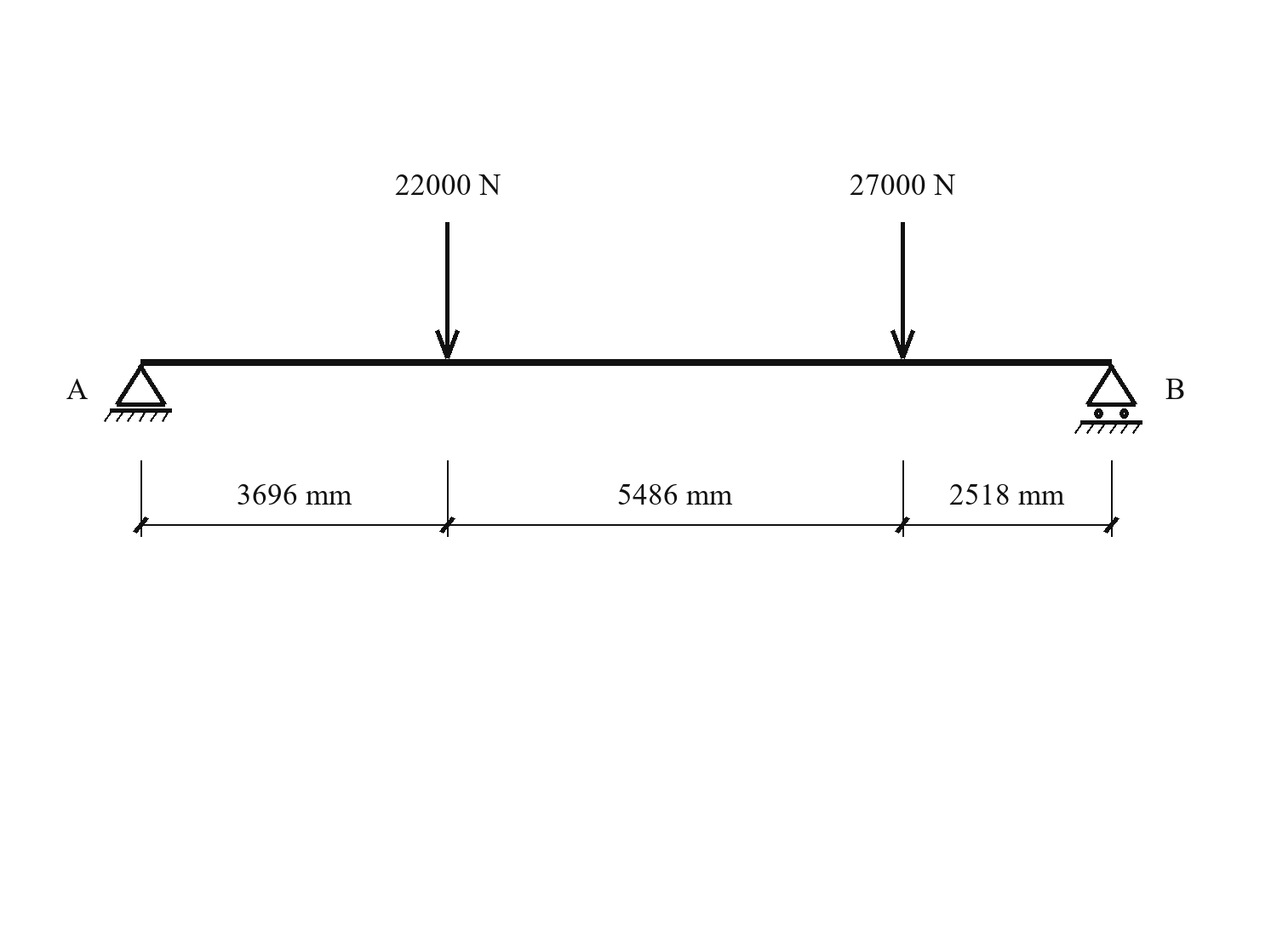pin_support: (104, 364, 172, 422)
point_load: (435, 222, 460, 359), (890, 222, 915, 359)
roller_support: (1074, 364, 1142, 434)
